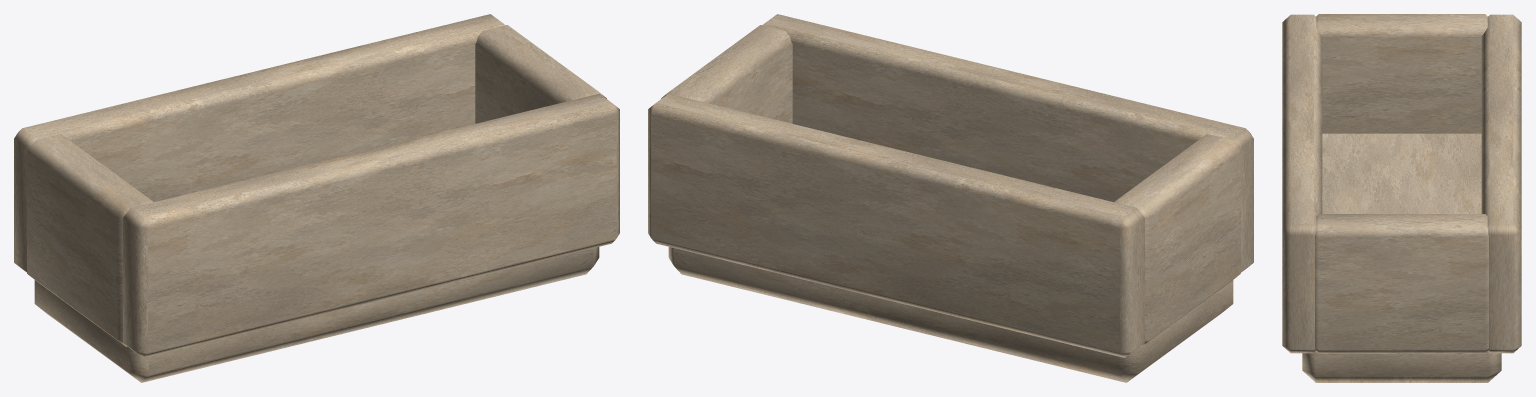
File: 25_Abrevadero.obj
3 renders of one model, left to right at view 1: azimuth 30°, elevation 25°; view 2: azimuth 150°, elevation 25°; view 3: azimuth 270°, elevation 25°, orthographic. The views are drawn at different scales.
Parts seen in each view (by area): view 1: 25_Abrevadero_Stone; view 2: 25_Abrevadero_Stone; view 3: 25_Abrevadero_Stone.
Part boxes in pixels (x1,y1,x2,y2): 25_Abrevadero_Stone: (14,14,619,382); 25_Abrevadero_Stone: (648,14,1253,382); 25_Abrevadero_Stone: (1282,14,1521,382).
Size of the model in its own units: 1.82 by 0.64 by 0.84.
Materials: 1 (1 with a texture image).
